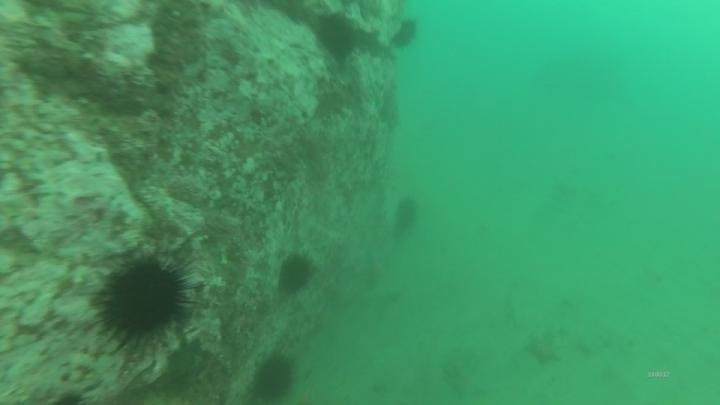echinus: (91, 249, 196, 352), (247, 350, 299, 404), (312, 12, 360, 63), (275, 251, 317, 296), (391, 194, 422, 236), (388, 16, 422, 52)
starfish: (438, 354, 490, 404), (522, 330, 564, 369)
